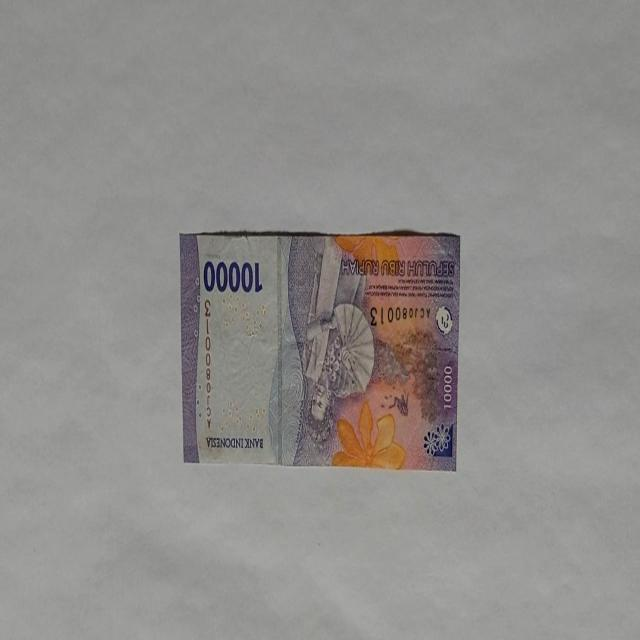Kertas: (179, 229, 461, 471), (202, 258, 264, 295)
